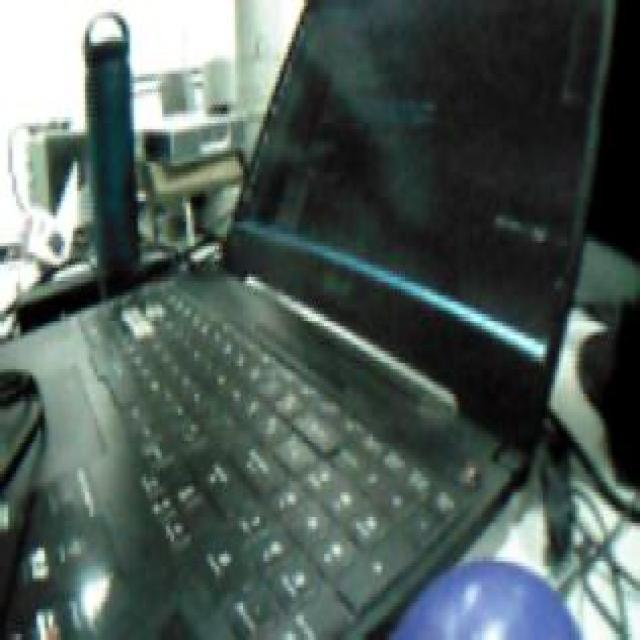BallPurple: (392, 558, 586, 640)
